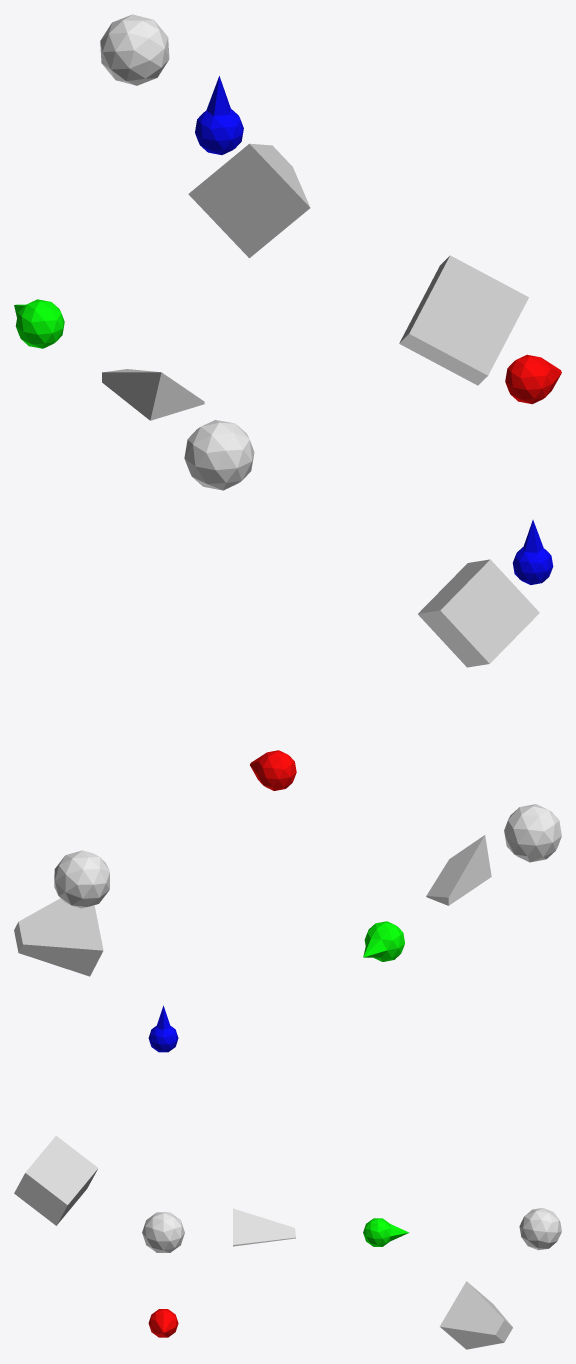
File: axisExtended.glb
The picture shows the model from 3 angles, top to bottom: view 1: azimuth 30°, elevation 25°; view 2: azimuth 150°, elevation 25°; view 3: azimuth 270°, elevation 25°; orthographic projection. The views are drawn at different scales.
Parts seen in each view (by area): view 1: Cube, rotated_translated, rotated_child, center, rotated, Z, X, Y; view 2: Cube, rotated_translated, center, rotated_child, rotated, Z, X, Y; view 3: Cube, rotated_translated, rotated, rotated_child, center, Y, Z, X.
Part boxes in pixels (x1,y1,x2,y2): Cube: [399, 255, 528, 385]; rotated_translated: [188, 143, 310, 258]; rotated_child: [100, 14, 169, 85]; center: [184, 420, 254, 490]; rotated: [102, 369, 204, 420]; Z: [195, 76, 243, 154]; X: [505, 354, 561, 404]; Y: [14, 299, 64, 348]; Cube: [418, 559, 539, 667]; rotated_translated: [14, 898, 103, 976]; center: [504, 804, 561, 862]; rotated_child: [54, 850, 109, 908]; rotated: [426, 835, 491, 905]; Z: [512, 520, 553, 584]; X: [250, 750, 296, 790]; Y: [363, 921, 404, 961]; Cube: [14, 1135, 98, 1225]; rotated_translated: [439, 1281, 512, 1349]; rotated: [233, 1208, 295, 1246]; rotated_child: [519, 1208, 561, 1250]; center: [142, 1212, 184, 1252]; Y: [363, 1218, 409, 1246]; Z: [148, 1005, 178, 1052]; X: [148, 1309, 178, 1337].
Size of the model in its own units: 2.45 by 2.69 by 5.11.
